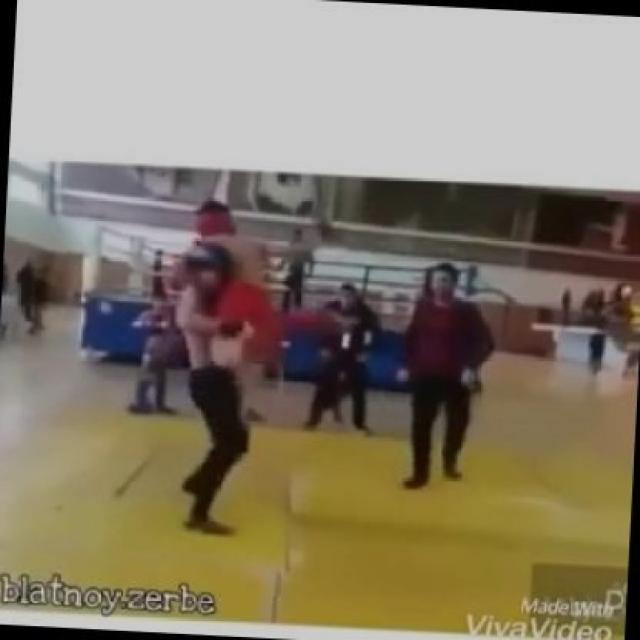fight: (168, 198, 348, 546)
non-fight: (384, 252, 502, 492), (300, 280, 388, 438)
